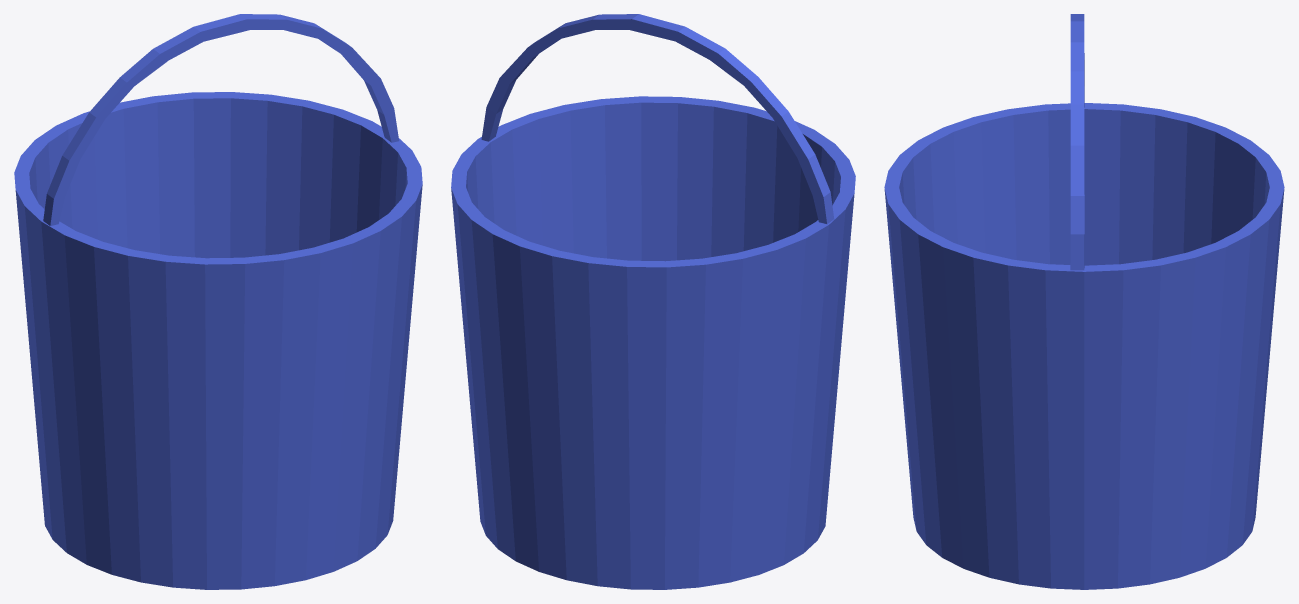
The model's file is ведро.fbx.
The picture shows the model from 3 angles, left to right: view 1: azimuth 30°, elevation 25°; view 2: azimuth 150°, elevation 25°; view 3: azimuth 270°, elevation 25°; orthographic projection. The views are drawn at different scales.
Parts seen in each view (by area): view 1: Plane; view 2: Plane; view 3: Plane.
Part boxes in pixels (box(x1,y1,x2,y2)): Plane: box(14, 14, 422, 589); Plane: box(451, 14, 855, 589); Plane: box(884, 14, 1284, 589).
Bounding box in the file's own units: 127 × 169 × 127.
